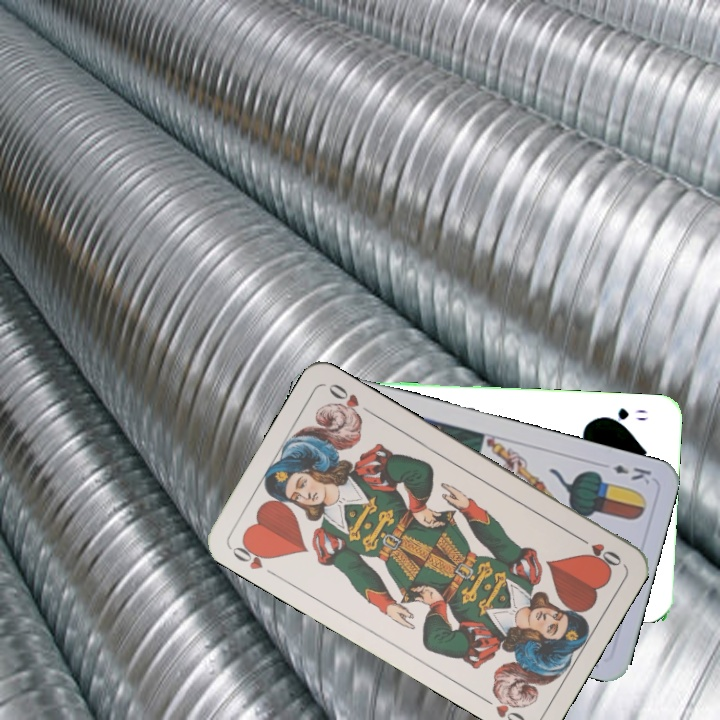EK: (608, 460, 654, 487)
GO: (597, 403, 651, 427)
HO: (572, 531, 625, 569), (228, 536, 276, 573)
